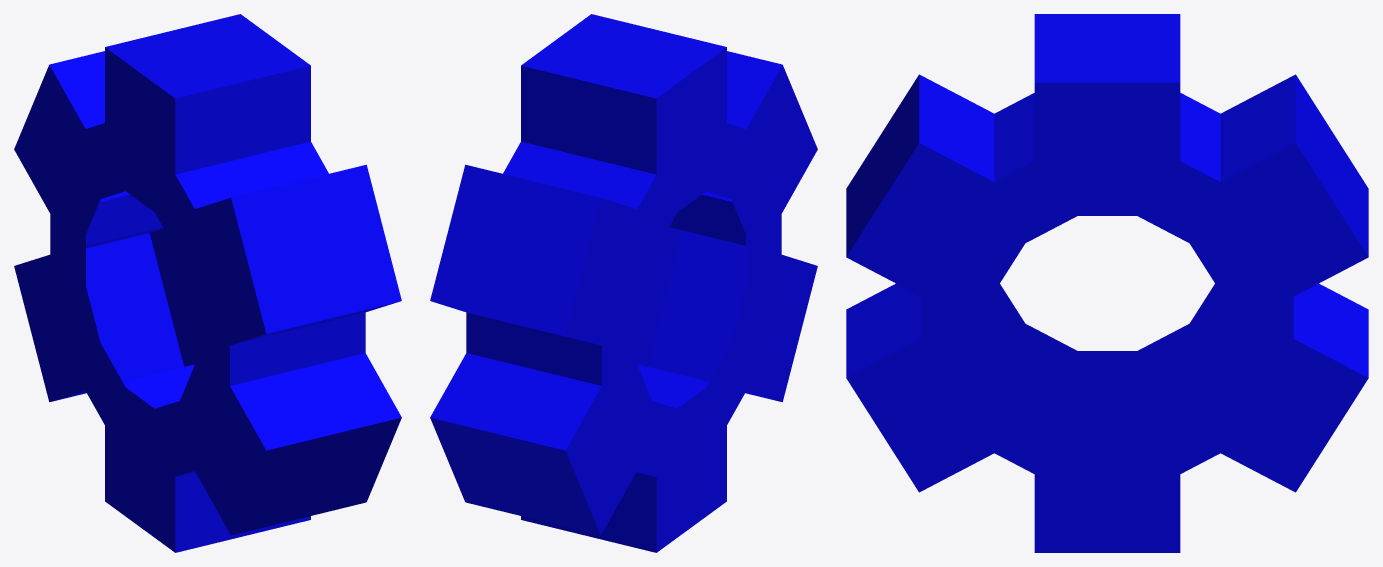
The model's file is cryptex_6.fbx.
The picture shows the model from 3 angles, left to right: view 1: azimuth 30°, elevation 25°; view 2: azimuth 150°, elevation 25°; view 3: azimuth 270°, elevation 25°; orthographic projection. The views are drawn at different scales.
Parts seen in each view (by area): view 1: Object019; view 2: Object019; view 3: Object019.
Part boxes in pixels (bbox=[...]): Object019: bbox=[14, 14, 401, 552]; Object019: bbox=[430, 14, 817, 552]; Object019: bbox=[846, 14, 1368, 552].
Bounding box in the file's own units: 0.0219 × 0.0702 × 0.0707.
